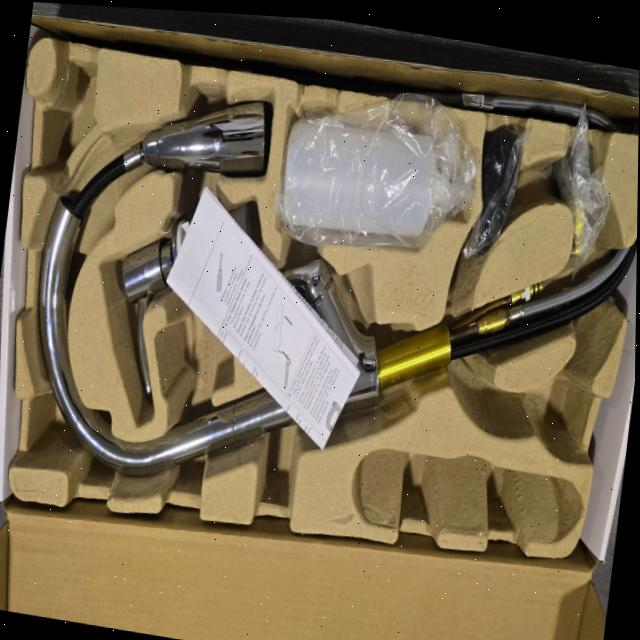1o: (37, 100, 628, 479)
2o: (118, 204, 249, 399)
3: (279, 117, 467, 242)
4m: (350, 450, 580, 545)
5m: (527, 371, 583, 446)
6: (537, 106, 609, 288)
7: (461, 125, 528, 258)
8: (164, 186, 360, 453)
